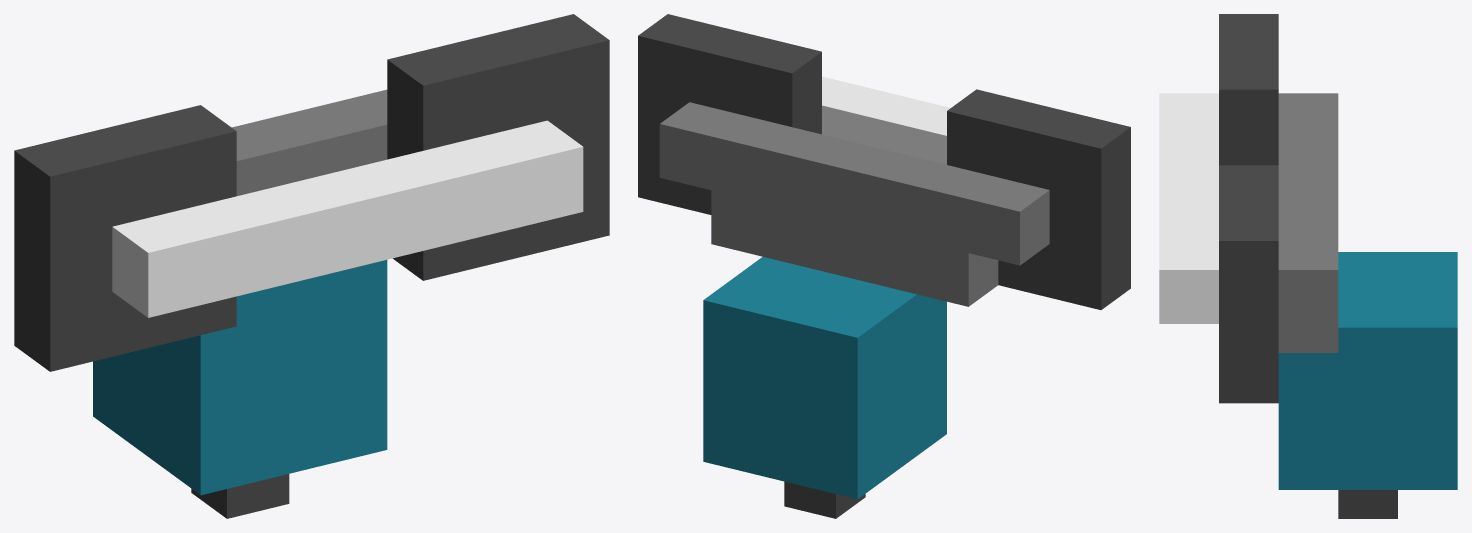
The model's file is printer1extruder.obj.
The picture shows the model from 3 angles, left to right: view 1: azimuth 30°, elevation 25°; view 2: azimuth 150°, elevation 25°; view 3: azimuth 270°, elevation 25°; orthographic projection. The views are drawn at different scales.
Size of the model in its own units: 0.9 by 0.7 by 0.5.
